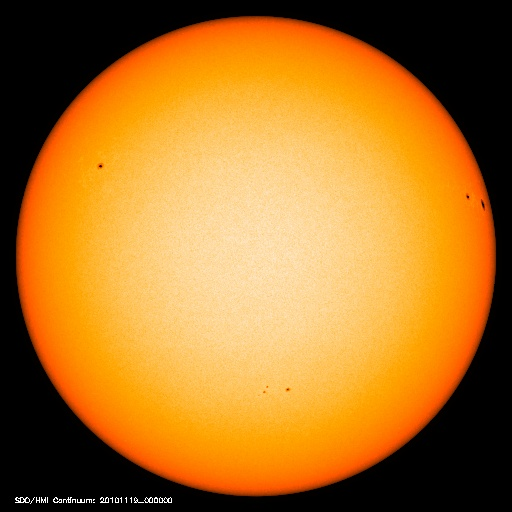sunspot: (456, 182, 492, 220), (248, 376, 298, 403), (87, 153, 115, 178)
